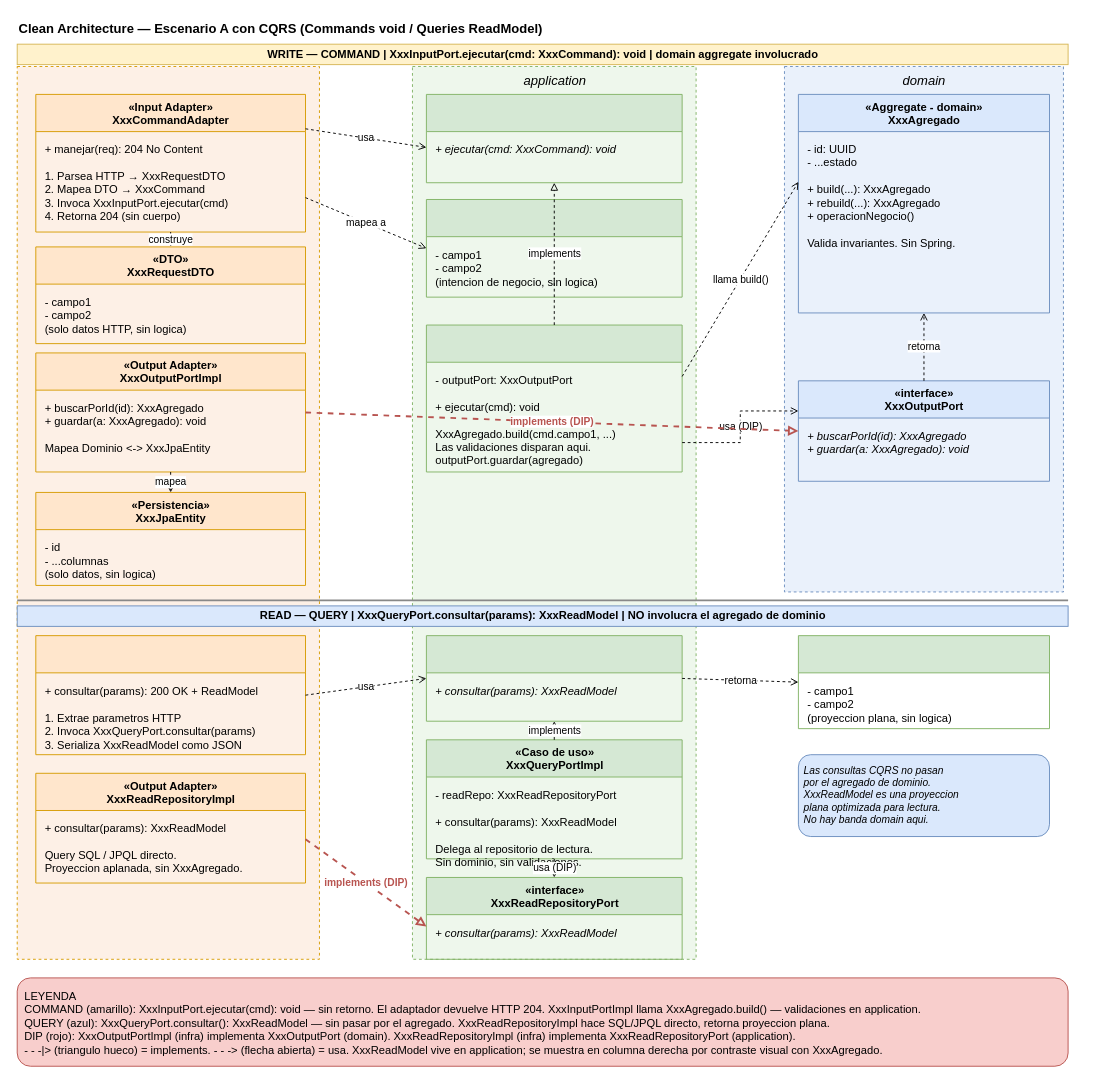
Image size: 1102x1083. Some labels were removed from this diagram. Here are the shapes that lost their labels. From the top down, the box of each, then its label:
(425, 93, 682, 183): «interface» XxxInputPort
(425, 199, 682, 297): «Command» XxxCommand
(425, 324, 682, 472): «Caso de uso» XxxInputPortImpl
(16, 66, 319, 959): infrastructure
(35, 635, 306, 755): «Input Adapter» XxxQueryAdapter
(425, 635, 682, 721): «interface» XxxQueryPort
(797, 635, 1050, 729): «ReadModel» XxxReadModel
